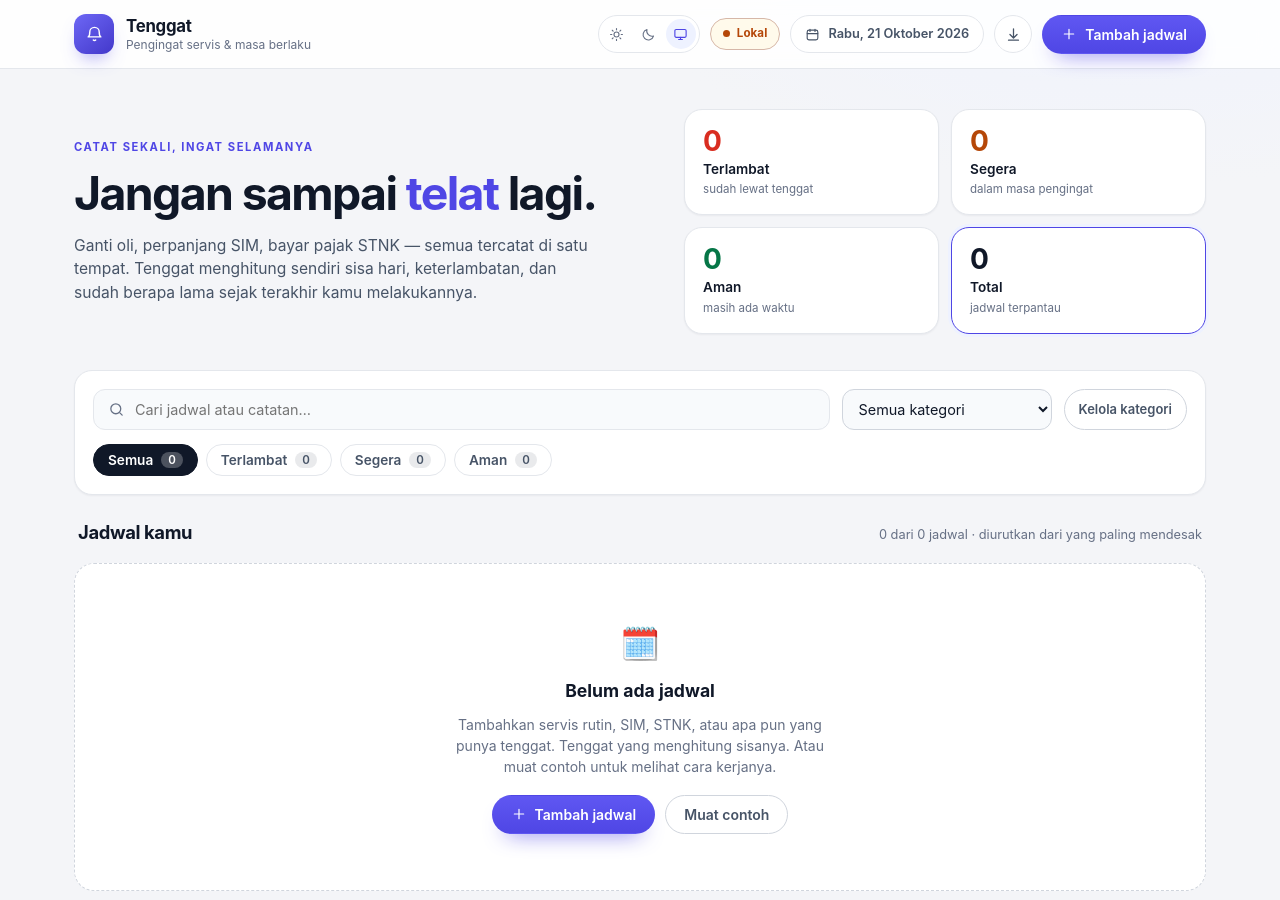
Scenario: App › mulai kosong bila belum ada data, dan contoh hanya dimuat saat diminta
Expected: the heading "Belum ada jadwal" is shown, 565,678 -> 715,704
Expected: the text "Ganti oli motor" is not shown
Click the button "Muat contoh". click: click(727, 814)
box: 665,795 -> 788,834
(page scrolled)
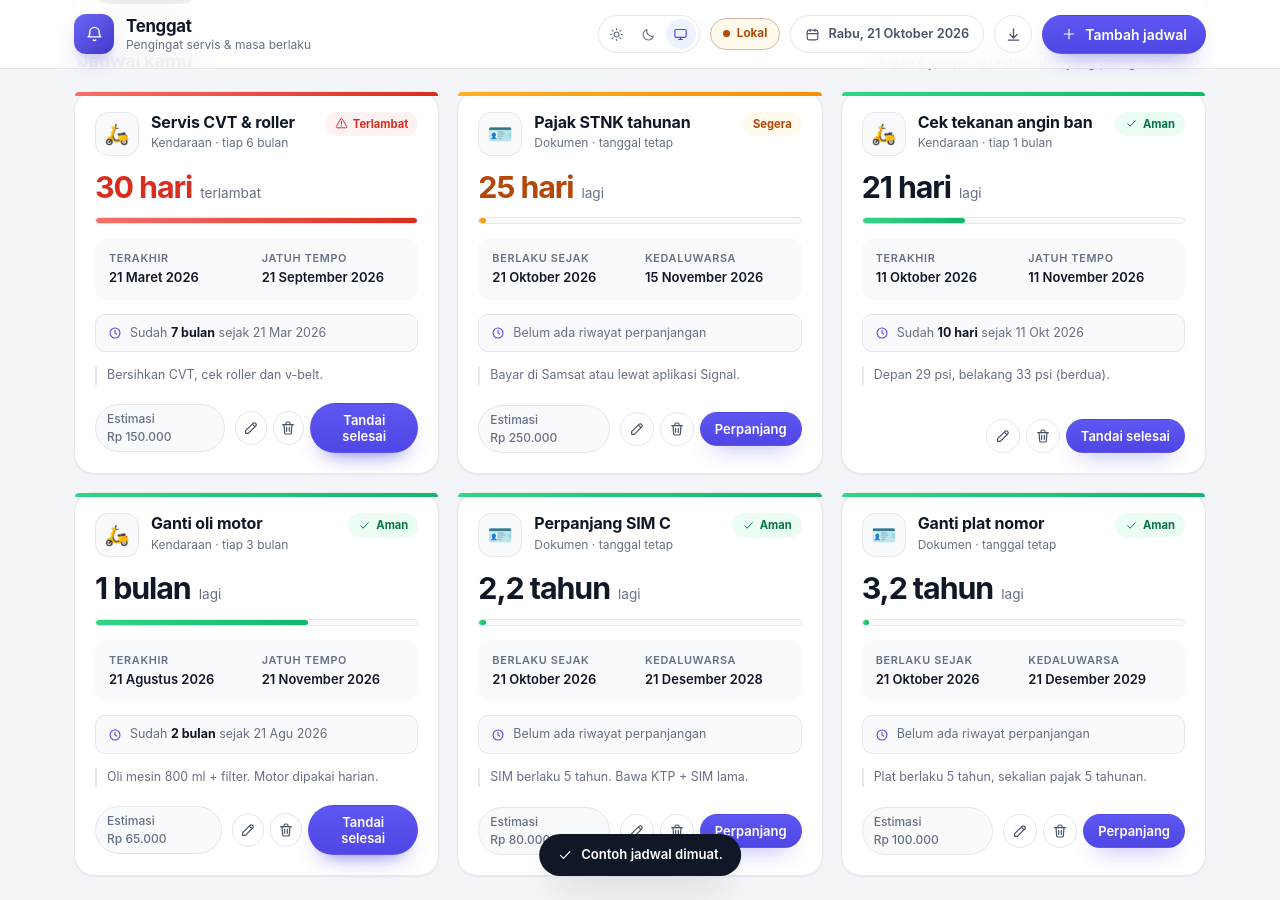
Expected: the heading "Ganti oli motor" is shown, 151,513 -> 263,533
Expected: the heading "Belum ada jadwal" is gone
